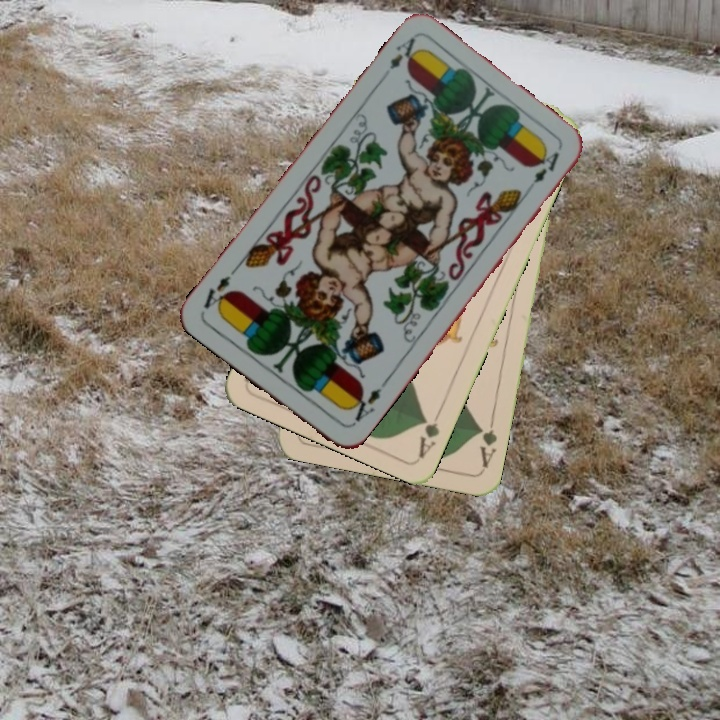EA: (344, 384, 384, 428), (385, 33, 423, 73)
GA: (414, 404, 444, 460), (474, 412, 500, 471)
